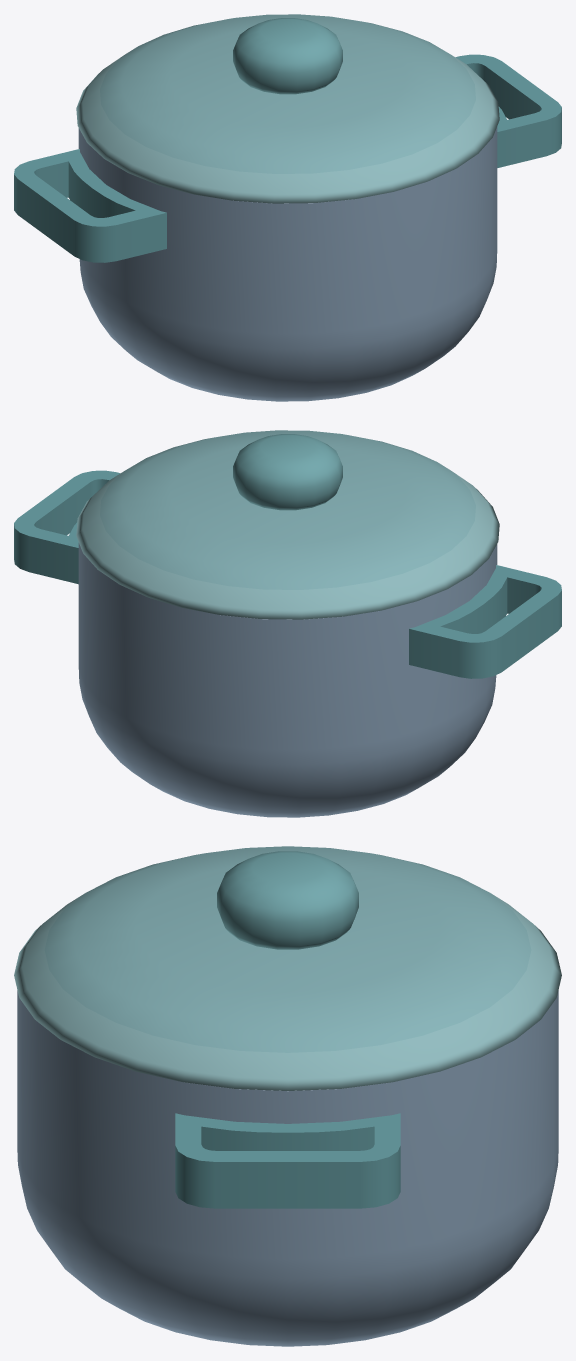
Rendered from Pot C.fbx.
3 renders of one model, top to bottom at view 1: azimuth 30°, elevation 25°; view 2: azimuth 150°, elevation 25°; view 3: azimuth 270°, elevation 25°, orthographic. The views are drawn at different scales.
Visible parts, largest first — view 1: Pot.002, Pot.003; view 2: Pot.002, Pot.003; view 3: Pot.002, Pot.003.
Part boxes in pixels (left/top/right/bottom): Pot.002: left=14, top=54, right=561, bottom=401; Pot.003: left=76, top=14, right=499, bottom=203; Pot.002: left=14, top=470, right=561, bottom=817; Pot.003: left=76, top=430, right=499, bottom=619; Pot.002: left=17, top=990, right=558, bottom=1346; Pot.003: left=14, top=846, right=561, bottom=1090.
Bounding box in the file's own units: 0.451 × 0.2712 × 0.3425.
